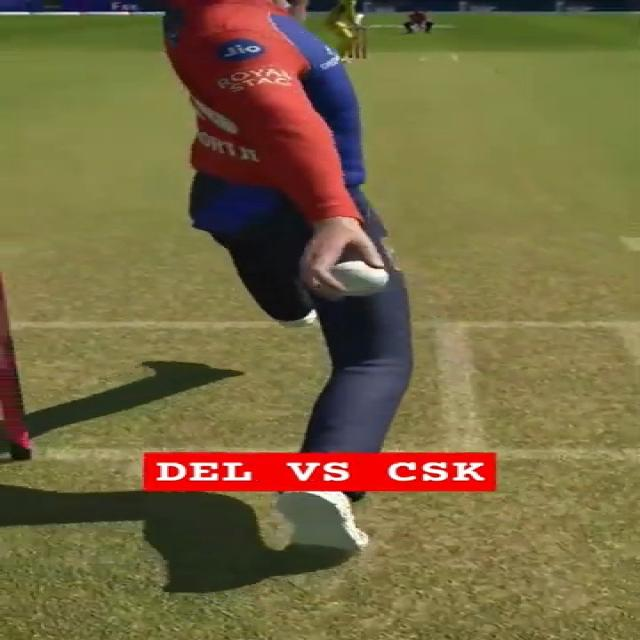ball: (331, 258, 395, 297)
